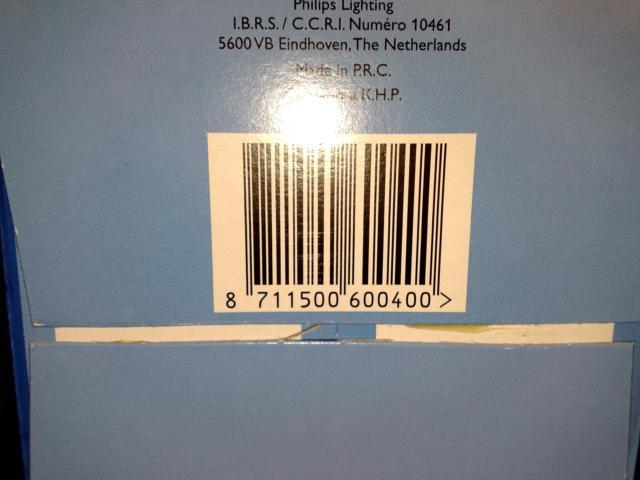Barcode: (212, 134, 459, 318)
